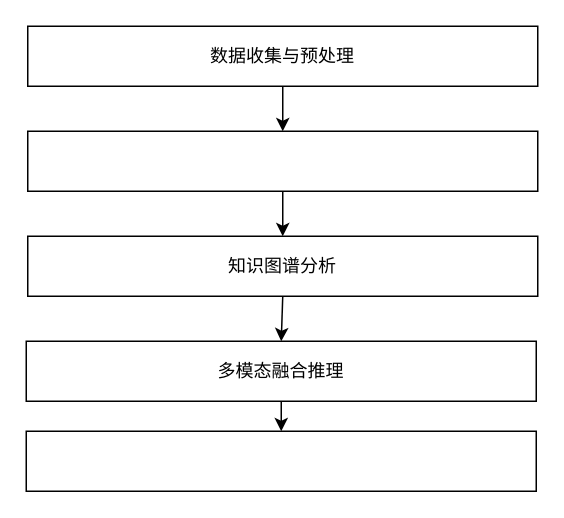
Image size: 564x518. Some labels were removed from this diagram. Here are the shapes that lost their labels. From the top down, the centre of each, then its label:
At point 282,160: "神经网络目标检测".
At point 280,460: "结果展示与报告生成".
